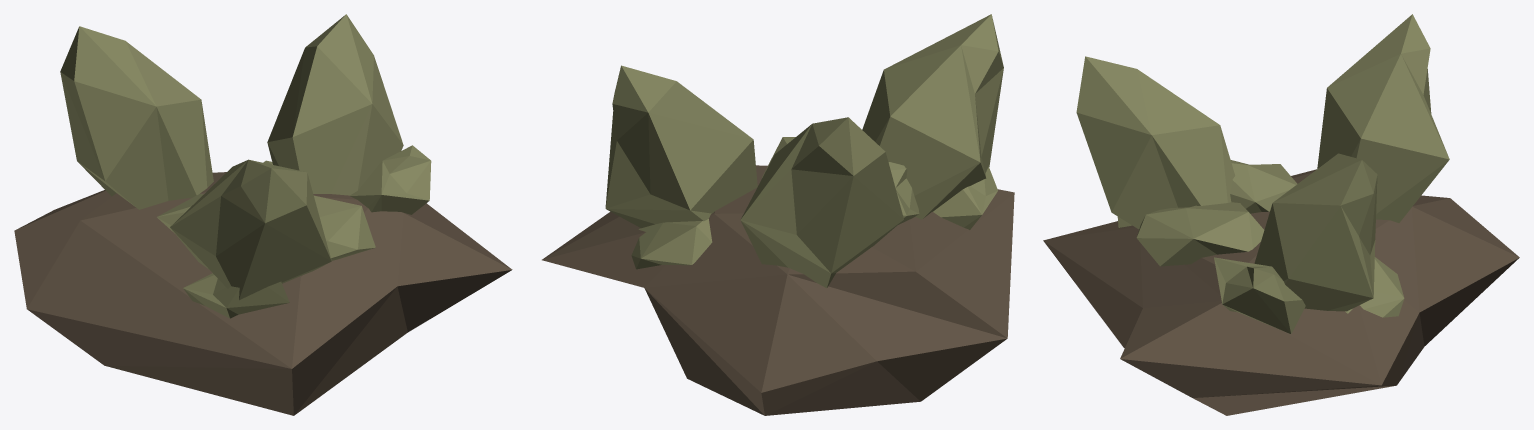
The model's file is SFHW_Rocks_003.fbx.
The picture shows the model from 3 angles, left to right: view 1: azimuth 30°, elevation 25°; view 2: azimuth 150°, elevation 25°; view 3: azimuth 270°, elevation 25°; orthographic projection. The views are drawn at different scales.
Parts seen in each view (by area): view 1: SFHW_Rocks_003; view 2: SFHW_Rocks_003; view 3: SFHW_Rocks_003.
Part boxes in pixels (x1=…): SFHW_Rocks_003: x1=14, y1=14, x2=512, y2=415; SFHW_Rocks_003: x1=542, y1=14, x2=1014, y2=415; SFHW_Rocks_003: x1=1043, y1=14, x2=1519, y2=415.
Size of the model in its own units: 15.7 by 11.02 by 15.87.
